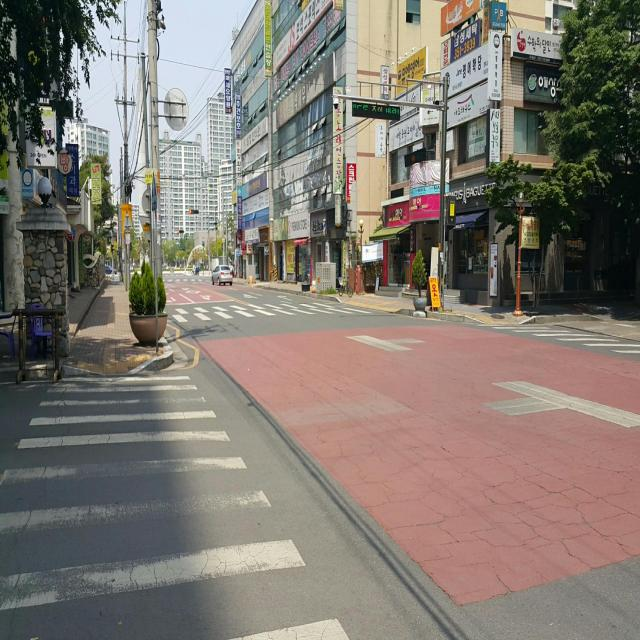횡단보도: (0, 374, 349, 640), (492, 322, 640, 363), (170, 302, 379, 323)
